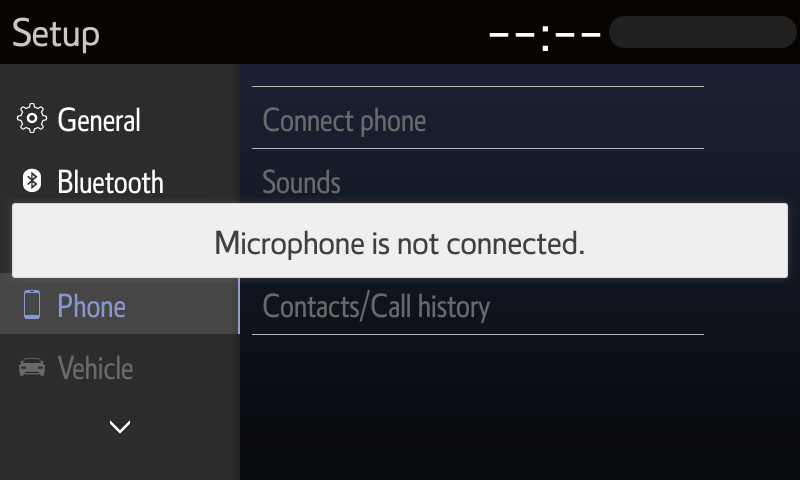touchPart: (13, 96, 149, 144), (13, 162, 166, 197), (105, 411, 138, 441)
untouchPart: (253, 76, 702, 156), (249, 272, 708, 337), (252, 145, 709, 206), (1, 270, 241, 337), (475, 9, 796, 57), (4, 349, 152, 389), (12, 11, 105, 51)
